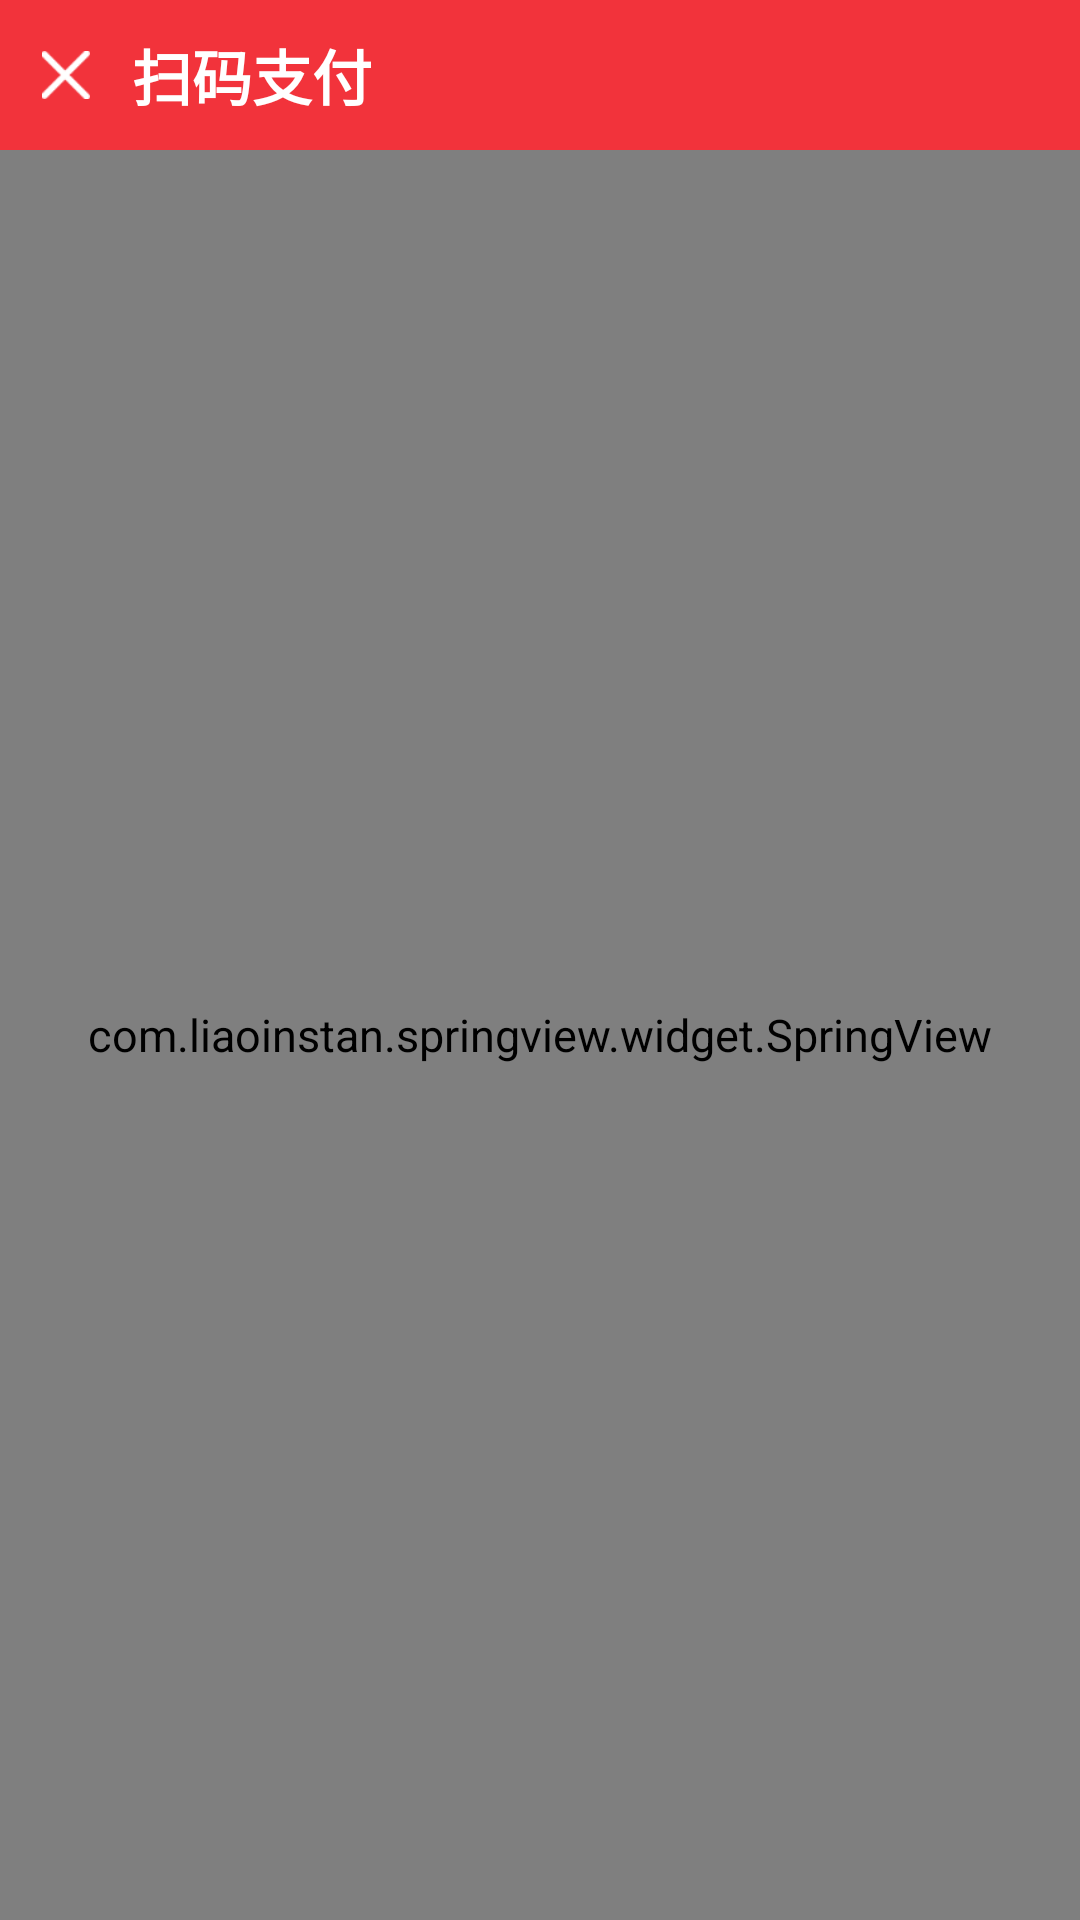

Named icons in this screenshot (1080 x 1920) and their bounding boxes, (x1, y1, x2, y2):
return: (42, 51, 90, 99)
